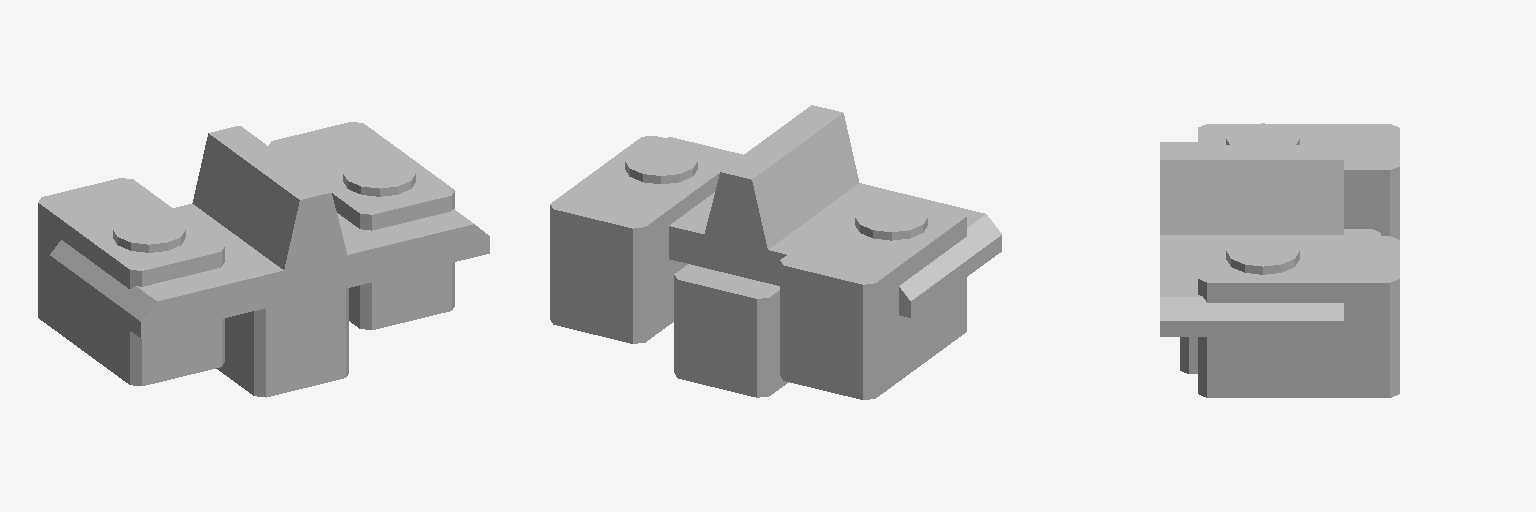
File: Bel.obj
3 views of the same model, side by side, from view 1: azimuth 30°, elevation 25°; view 2: azimuth 150°, elevation 25°; view 3: azimuth 270°, elevation 25° (orthographic).
Parts seen in each view (by area): view 1: unnamed_object1; view 2: unnamed_object1; view 3: unnamed_object1.
Boxes of the visible parts, x1=… form: unnamed_object1: x1=38, y1=122, x2=489, y2=397; unnamed_object1: x1=550, y1=105, x2=1001, y2=399; unnamed_object1: x1=1160, y1=123, x2=1399, y2=397.
Size of the model in its own units: 22 by 12.45 by 13.05.